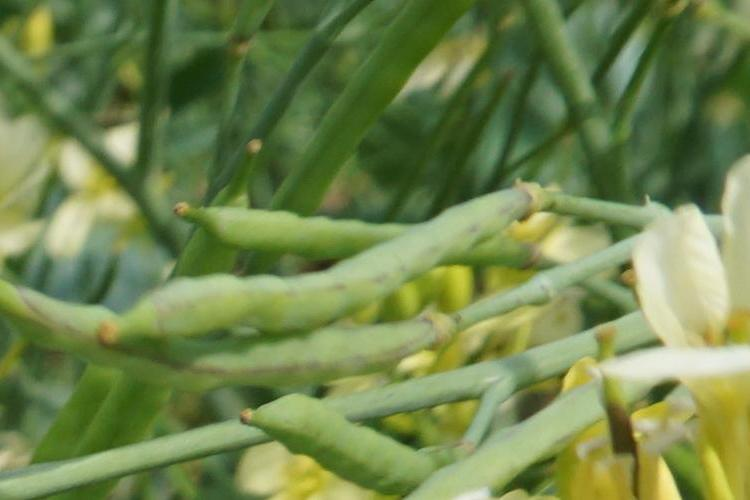pod: (77, 177, 561, 358), (221, 359, 518, 488), (173, 186, 455, 268), (175, 309, 456, 390)
white: (616, 174, 740, 478)
